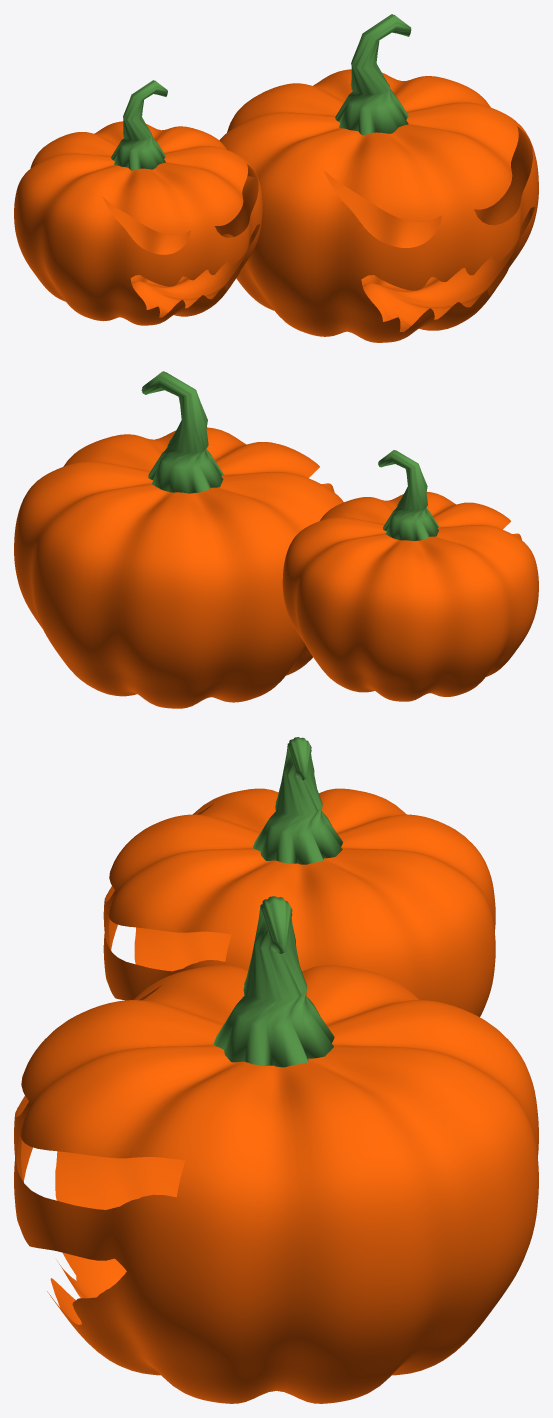
Rendered from pumpkins2.glb.
The picture shows the model from 3 angles, top to bottom: view 1: azimuth 30°, elevation 25°; view 2: azimuth 150°, elevation 25°; view 3: azimuth 270°, elevation 25°; orthographic projection. The views are drawn at different scales.
Visible parts, largest first — view 1: 球, 球.001, 円, 円.001; view 2: 球, 球.001, 円, 円.001; view 3: 球, 球.001, 円, 円.001.
Part boxes in pixels (bbox=[...]): 球: bbox=[215, 69, 538, 342]; 球.001: bbox=[14, 121, 262, 325]; 円: bbox=[335, 14, 411, 135]; 円.001: bbox=[111, 80, 167, 170]; 球: bbox=[14, 427, 343, 708]; 球.001: bbox=[282, 491, 538, 701]; 円: bbox=[141, 371, 223, 493]; 円.001: bbox=[378, 450, 438, 540]; 球: bbox=[14, 965, 538, 1403]; 球.001: bbox=[103, 788, 495, 1016]; 円: bbox=[213, 896, 334, 1067]; 円.001: bbox=[253, 737, 342, 864].
Size of the model in its own units: 3.22 by 1.88 by 1.91.
